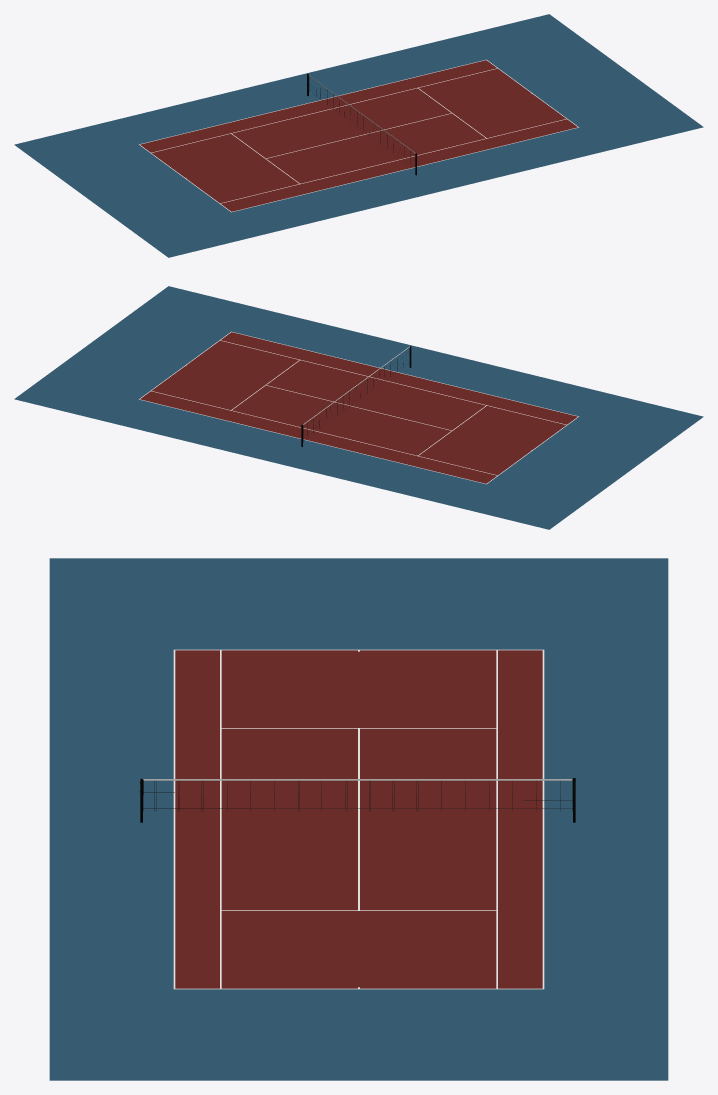
File: tenniscourt LOD1.fbx
3 renders of one model, top to bottom at view 1: azimuth 30°, elevation 25°; view 2: azimuth 150°, elevation 25°; view 3: azimuth 270°, elevation 25°, orthographic. The views are drawn at different scales.
Parts seen in each view (by area): view 1: outer, play, line marking; view 2: outer, play, line marking; view 3: outer, play, line marking, Layer:0.001, Layer:0.
Boxes of the visible parts, x1,y1,x2,y2 form: outer: [14, 14, 703, 257]; play: [140, 60, 577, 211]; line marking: [139, 59, 578, 212]; outer: [14, 286, 703, 529]; play: [140, 332, 577, 483]; line marking: [139, 331, 578, 484]; outer: [49, 558, 668, 1080]; play: [175, 650, 542, 988]; line marking: [173, 649, 544, 989]; Layer:0.001: [143, 779, 571, 811]; Layer:0: [143, 779, 572, 780].
Bounding box in the file's own units: 3657 × 144 × 1829.
